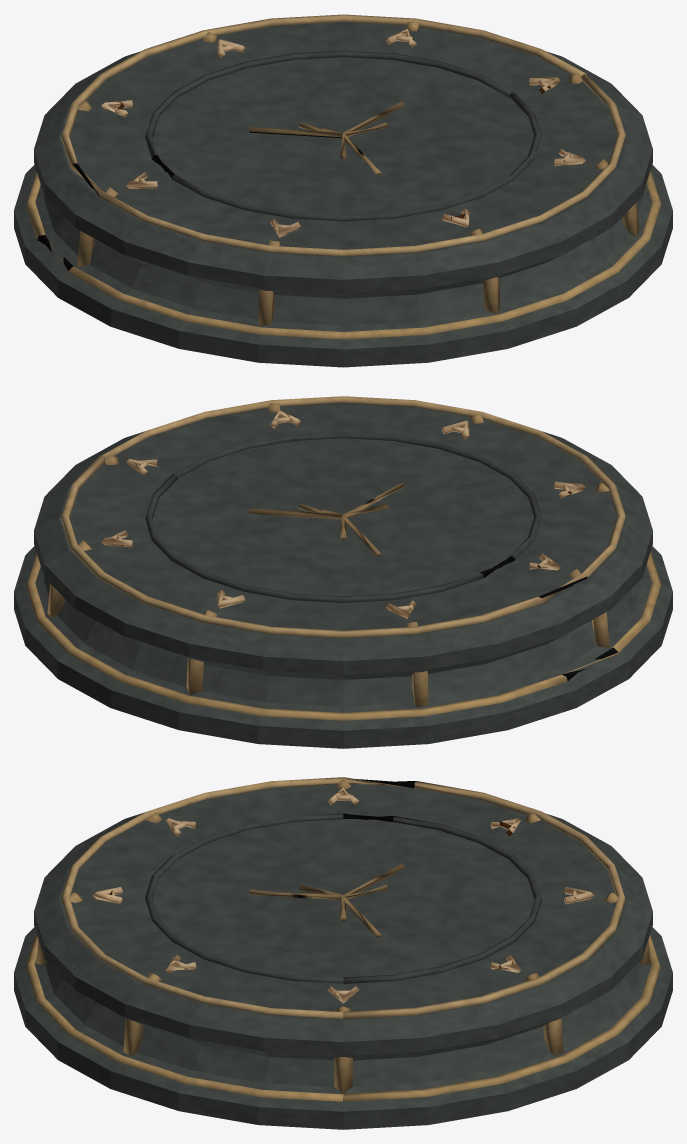
Rendered from pedestal-desktop.glb.
The picture shows the model from 3 angles, top to bottom: view 1: azimuth 30°, elevation 25°; view 2: azimuth 150°, elevation 25°; view 3: azimuth 270°, elevation 25°; orthographic projection.
Visible parts, largest first — view 1: pedestal_0, pedestal_1, pedestal_2; view 2: pedestal_0, pedestal_1, pedestal_2; view 3: pedestal_0, pedestal_1, pedestal_2.
Part boxes in pixels (x1,y1,x2,y2): pedestal_0: [14, 22, 672, 367]; pedestal_1: [26, 14, 660, 339]; pedestal_2: [101, 29, 585, 237]; pedestal_0: [14, 403, 672, 748]; pedestal_1: [26, 396, 660, 720]; pedestal_2: [101, 410, 585, 618]; pedestal_0: [14, 784, 672, 1129]; pedestal_1: [26, 777, 660, 1101]; pedestal_2: [92, 787, 594, 1003].
Size of the model in its own units: 1.32 by 0.243 by 1.32.
3 materials, 3 textured.
